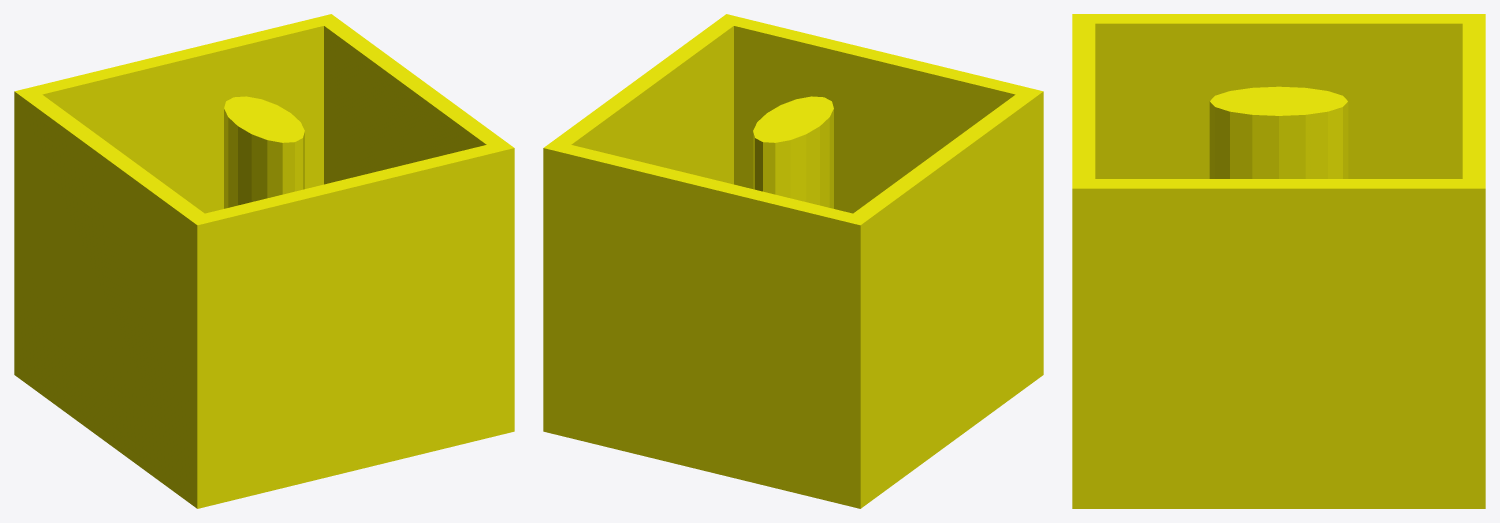
File: DotHighlight.fbx
3 views of the same model, side by side, from view 1: azimuth 30°, elevation 25°; view 2: azimuth 150°, elevation 25°; view 3: azimuth 270°, elevation 25° (orthographic). The views are drawn at different scales.
Visible parts, largest first — view 1: Dot_Highlight; view 2: Dot_Highlight; view 3: Dot_Highlight.
Part boxes in pixels (x1,y1,x2,y2): Dot_Highlight: [14, 14, 514, 508]; Dot_Highlight: [543, 14, 1043, 508]; Dot_Highlight: [1072, 14, 1485, 508].
Bounding box in the file's own units: 224 × 191 × 224.
